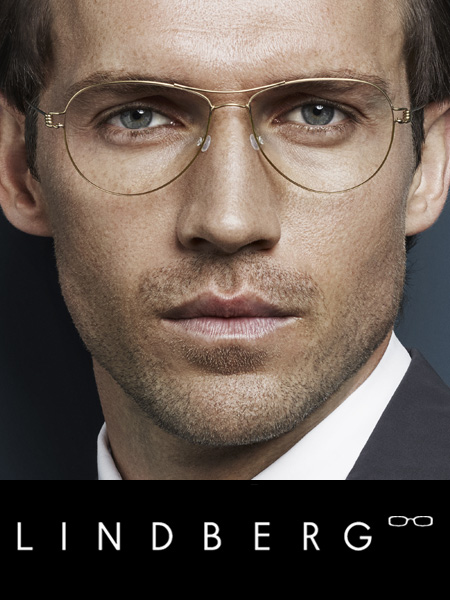llen: (249, 79, 394, 193)
rlen: (63, 81, 211, 195)
